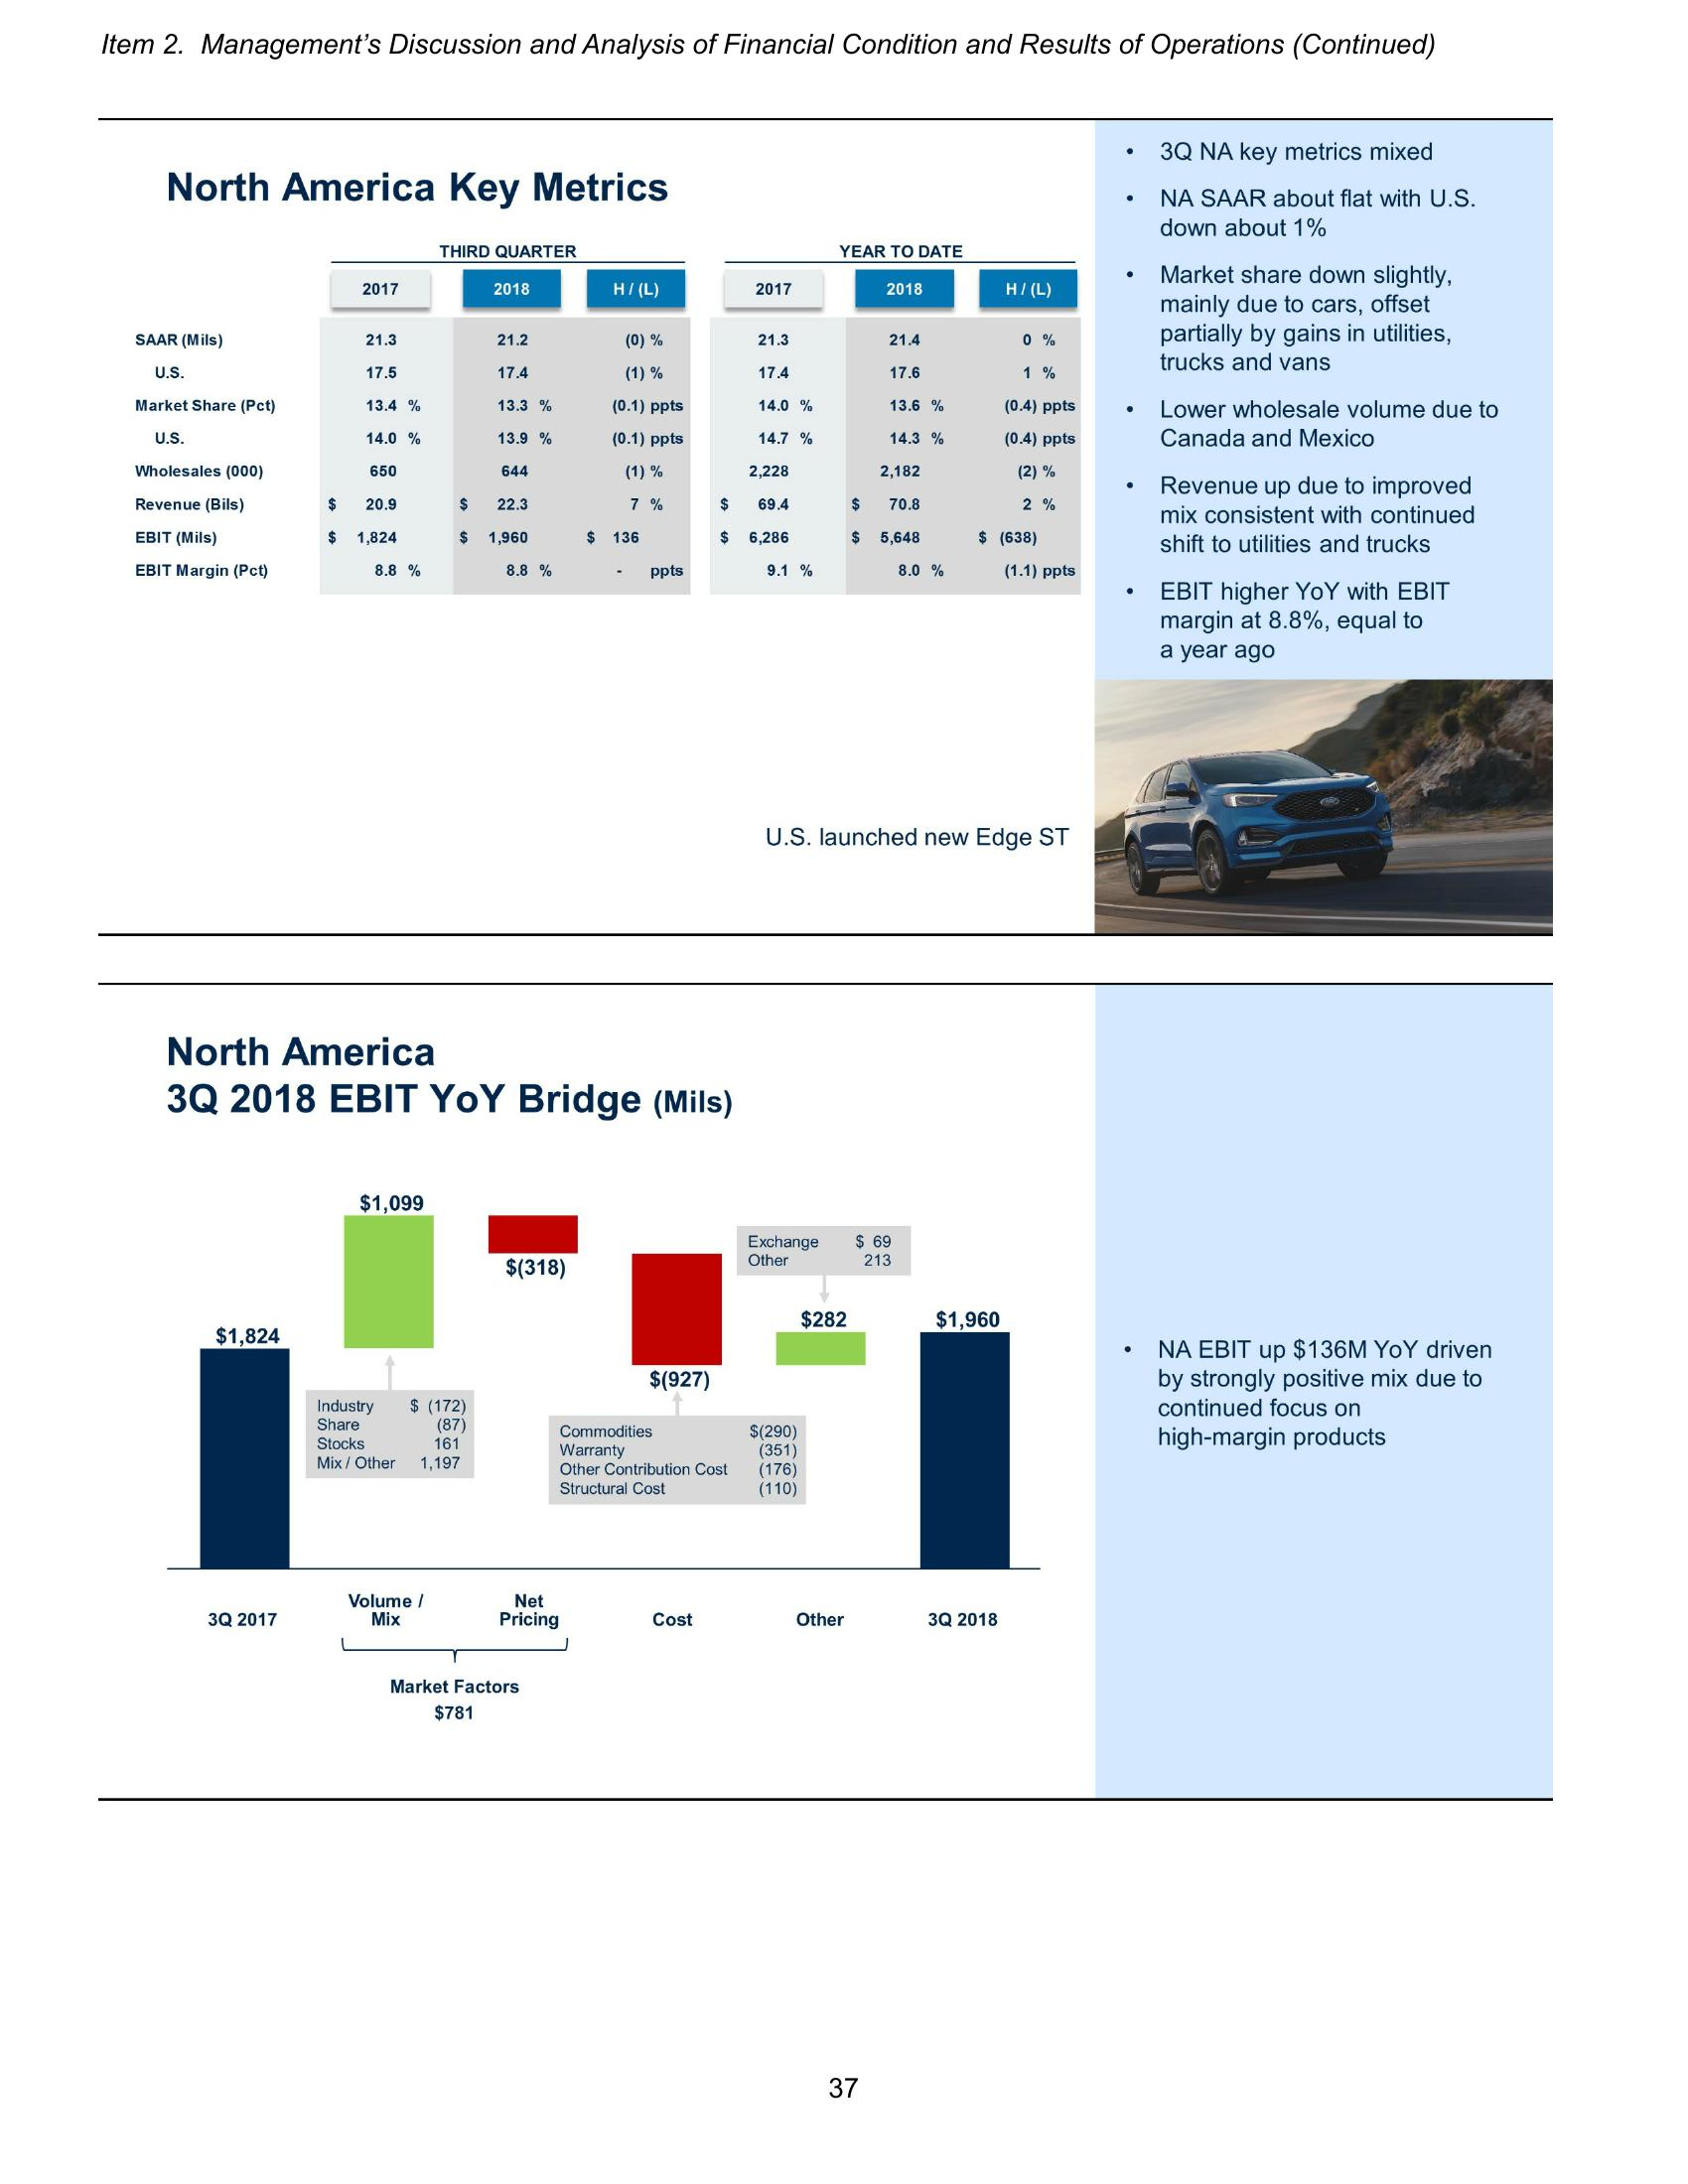table: (126, 236, 1087, 601)
